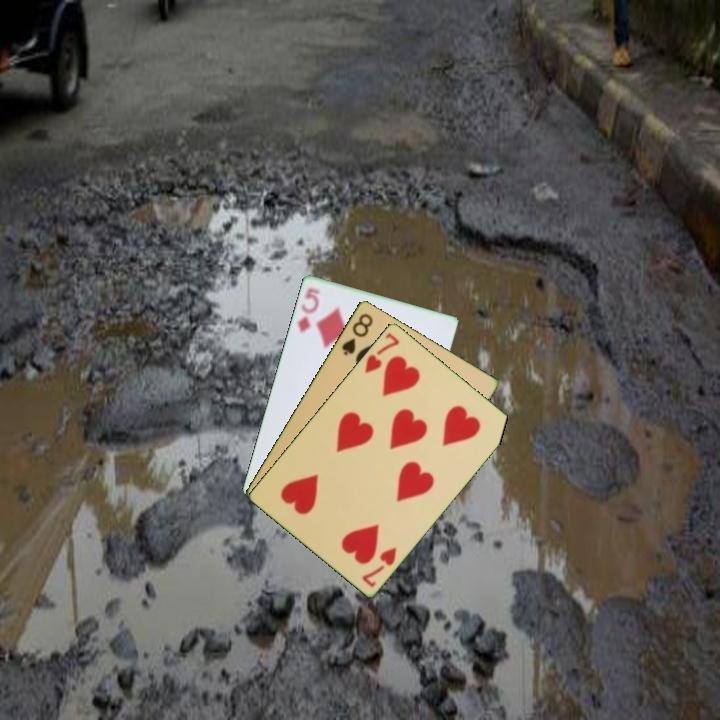5d: (293, 284, 322, 335)
7h: (358, 543, 400, 590), (361, 329, 402, 376)
8s: (338, 309, 376, 358)
